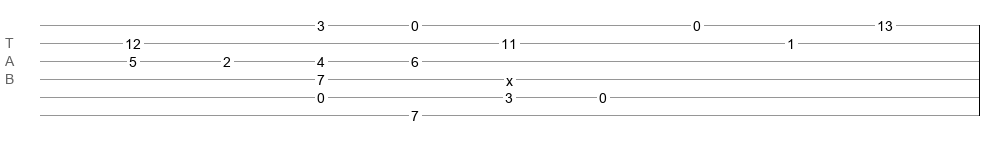0: (317, 90, 325, 100), (411, 18, 419, 28), (599, 90, 607, 100), (693, 18, 701, 28)
1: (787, 36, 795, 46)
11: (501, 36, 517, 46)
12: (125, 36, 141, 46)
13: (877, 18, 893, 28)
2: (223, 54, 231, 64)
3: (317, 18, 325, 28), (505, 90, 513, 100)
4: (317, 54, 325, 64)
5: (129, 54, 137, 64)
6: (411, 54, 419, 64)
7: (317, 72, 325, 82), (411, 108, 419, 118)
x: (506, 73, 513, 81)
